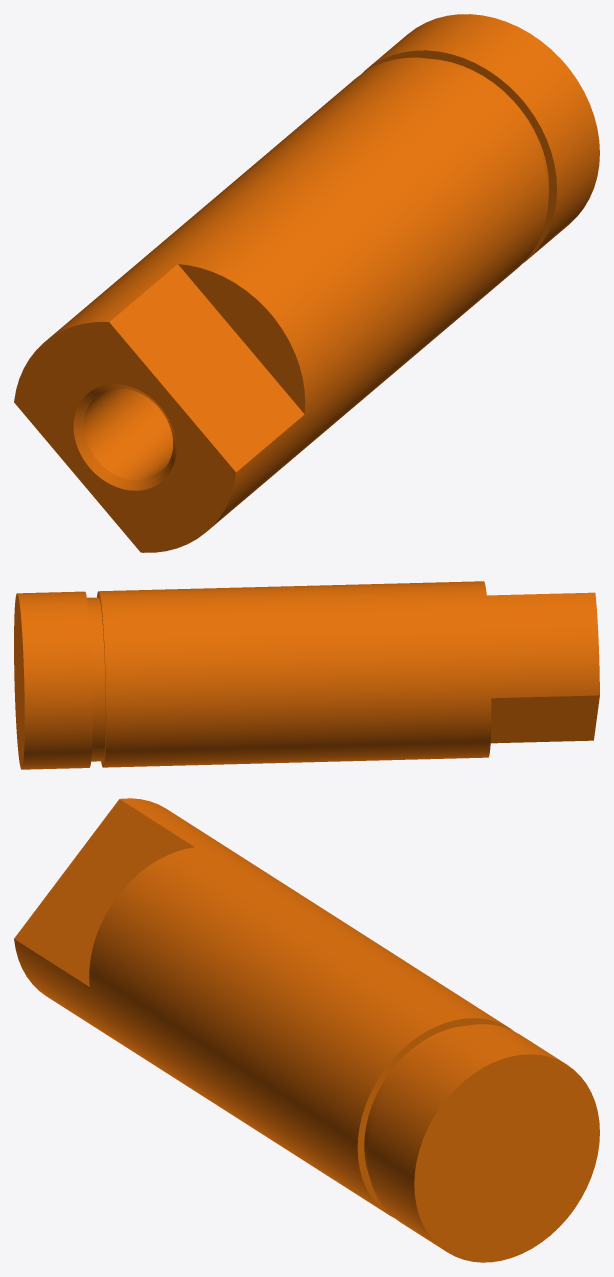
File: Default__12_STEP_1_RP_lidar_A1_igs_STEP_1_laser_igs_STEP_1_solid1.obj
The picture shows the model from 3 angles, top to bottom: view 1: azimuth 30°, elevation 25°; view 2: azimuth 150°, elevation 25°; view 3: azimuth 270°, elevation 25°; orthographic projection. The views are drawn at different scales.
Visible parts, largest first — view 1: mesh2475, mesh2470, mesh2473, mesh2479, mesh2468, mesh2474, mesh2478, mesh2469; view 2: mesh2475, mesh2479, mesh2471, mesh2477, mesh2480; view 3: mesh2475, mesh2480, mesh2479, mesh2473, mesh2476, mesh2477.
Boxes of the visible parts, left/top/right/bottom form: mesh2475: left=46, top=57, right=548, bottom=530; mesh2470: left=14, top=322, right=235, bottom=552; mesh2473: left=109, top=264, right=304, bottom=472; mesh2479: left=367, top=14, right=599, bottom=259; mesh2468: left=84, top=388, right=172, bottom=480; mesh2474: left=178, top=264, right=305, bottom=413; mesh2478: left=362, top=50, right=556, bottom=262; mesh2469: left=73, top=384, right=176, bottom=490; mesh2475: left=99, top=581, right=599, bottom=767; mesh2479: left=17, top=591, right=92, bottom=769; mesh2471: left=490, top=695, right=599, bottom=743; mesh2477: left=87, top=597, right=105, bottom=761; mesh2480: left=14, top=593, right=24, bottom=769; mesh2475: left=14, top=798, right=508, bottom=1213; mesh2480: left=414, top=1054, right=599, bottom=1262; mesh2479: left=367, top=1024, right=563, bottom=1250; mesh2473: left=14, top=799, right=194, bottom=986; mesh2476: left=357, top=1018, right=513, bottom=1217; mesh2477: left=364, top=1025, right=466, bottom=1176.
Bounding box in the file's own units: 0.0213 × 0.00649 × 0.0171.
